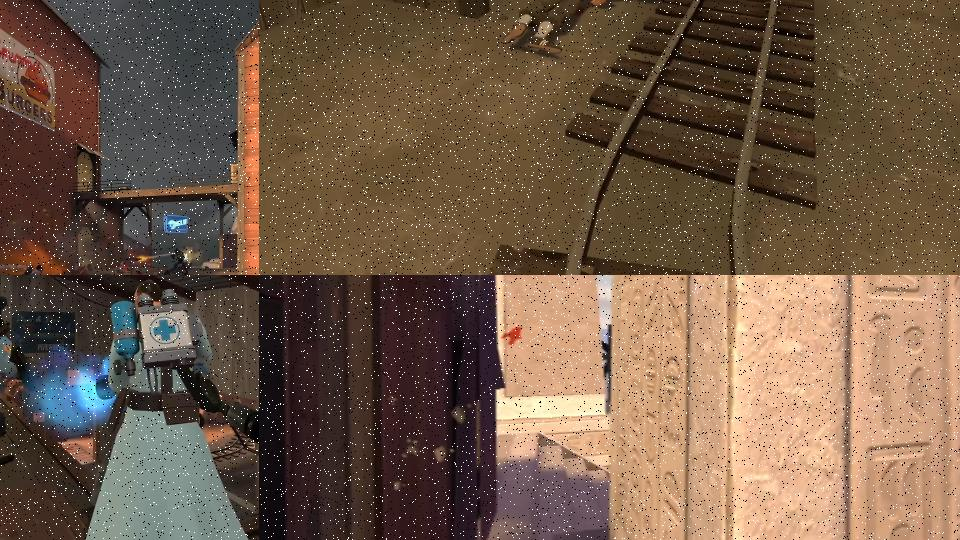Enemy: (74, 277, 259, 540), (0, 294, 42, 488), (502, 0, 657, 48), (67, 261, 113, 275), (13, 263, 64, 275), (169, 247, 190, 275)
